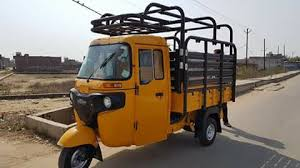auto: (46, 6, 248, 167)
